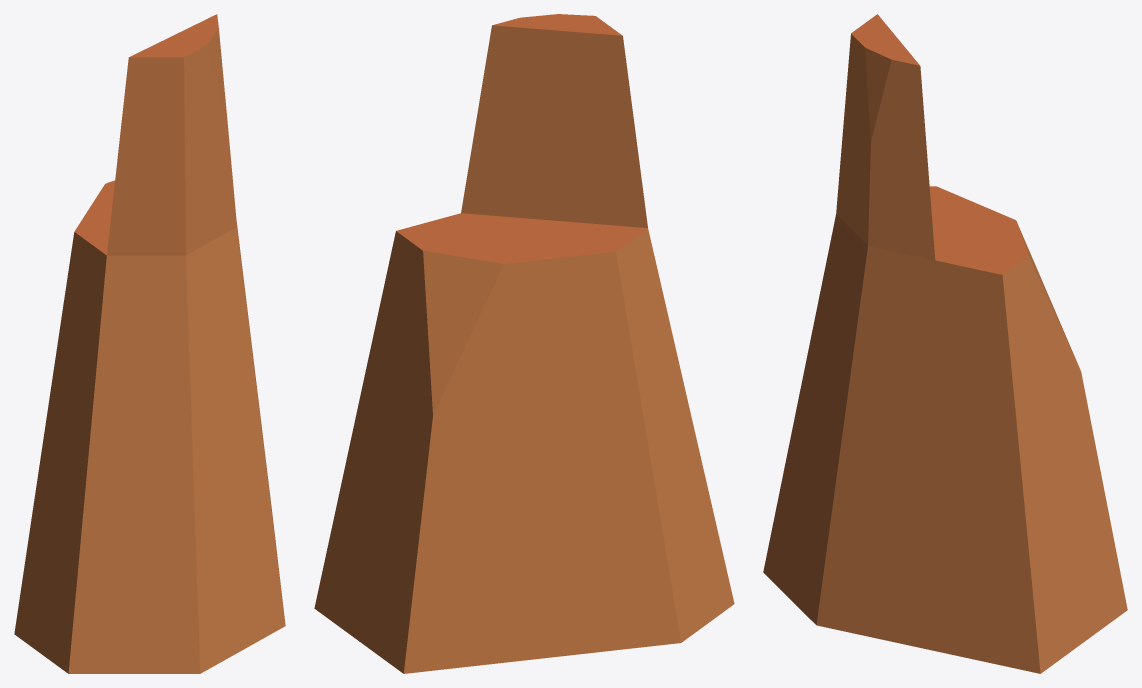
File: mesa_3.fbx
The picture shows the model from 3 angles, left to right: view 1: azimuth 30°, elevation 25°; view 2: azimuth 150°, elevation 25°; view 3: azimuth 270°, elevation 25°; orthographic projection. The views are drawn at different scales.
Visible parts, largest first — view 1: mesa_3; view 2: mesa_3; view 3: mesa_3.
Boxes of the visible parts, left/top/right/bottom form: mesa_3: left=14, top=14, right=285, bottom=673; mesa_3: left=314, top=14, right=734, bottom=673; mesa_3: left=763, top=14, right=1127, bottom=673.
Size of the model in its own units: 0.4428 by 0.7721 by 0.4615.
1 material, 1 textured.
